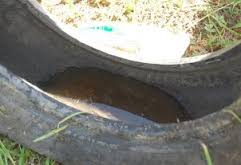tire: (1, 1, 239, 165)
